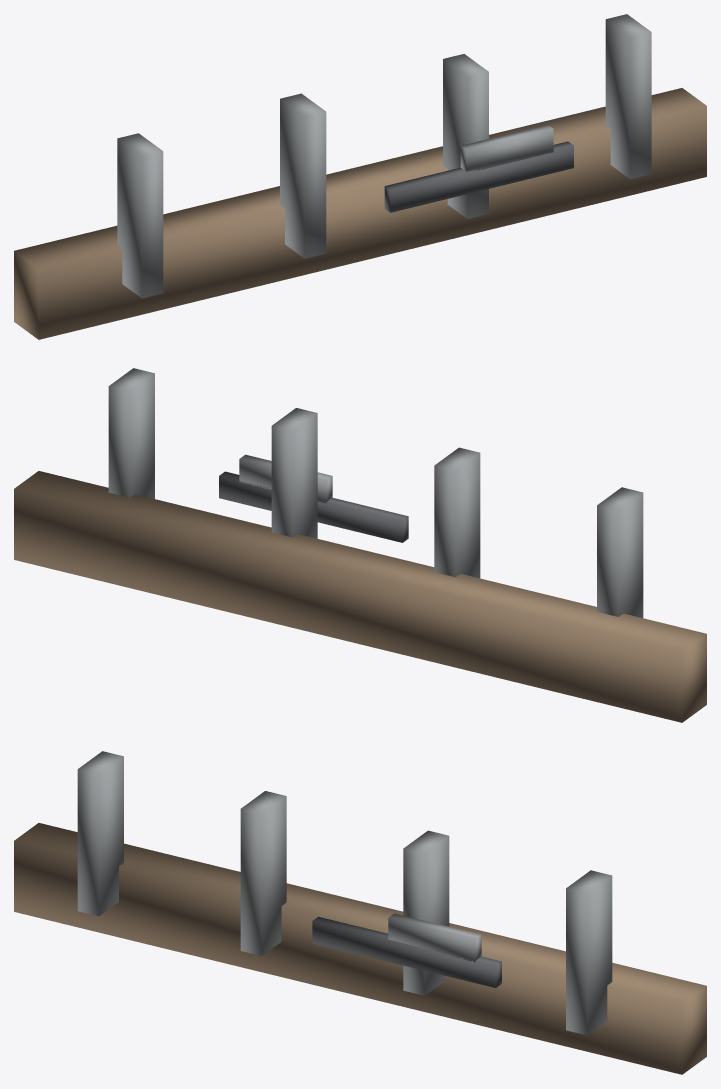
Rendered from door_coat_hook__weathered.glb.
3 views of the same model, one above another, from view 1: azimuth 30°, elevation 25°; view 2: azimuth 150°, elevation 25°; view 3: azimuth 330°, elevation 25° (orthographic).
Visible parts, largest first — view 1: world; view 2: world; view 3: world.
Part boxes in pixels (box(x1,y1,x2,y2)): world: box(14, 14, 706, 339); world: box(14, 368, 706, 722); world: box(14, 751, 706, 1074).
Size of the model in its own units: 0.78 by 0.198 by 0.104.
